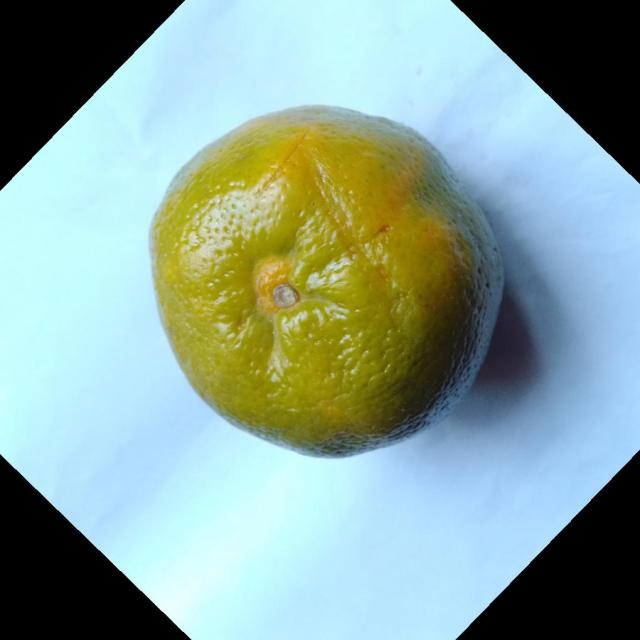fresh orange: (147, 102, 505, 460)
